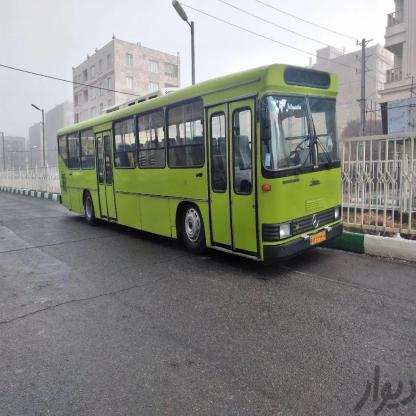Bus: (53, 54, 348, 275)
